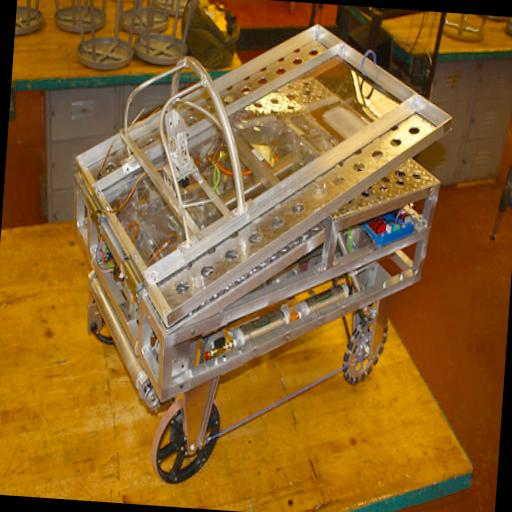robot: (49, 0, 451, 492)
